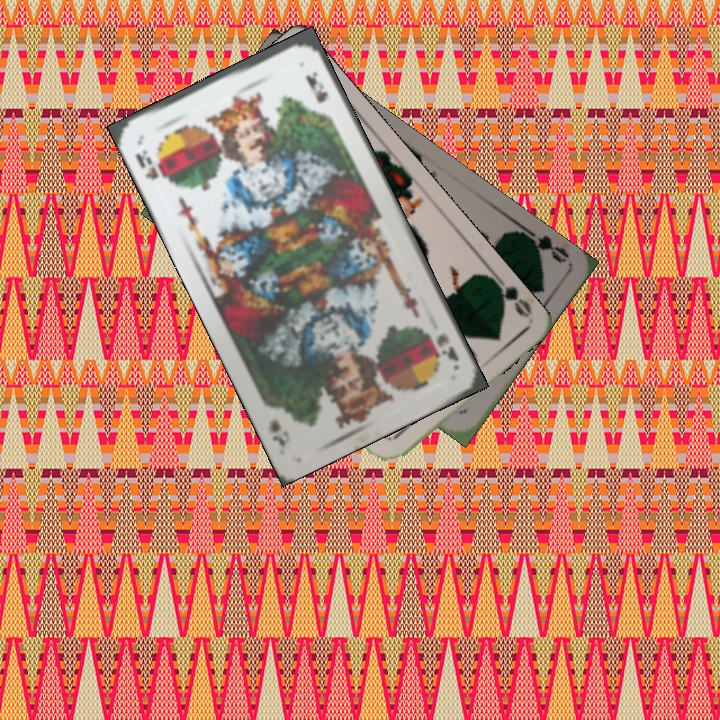GO: (485, 268, 534, 320), (515, 222, 571, 266)
SK: (131, 145, 174, 189), (423, 328, 462, 364)
